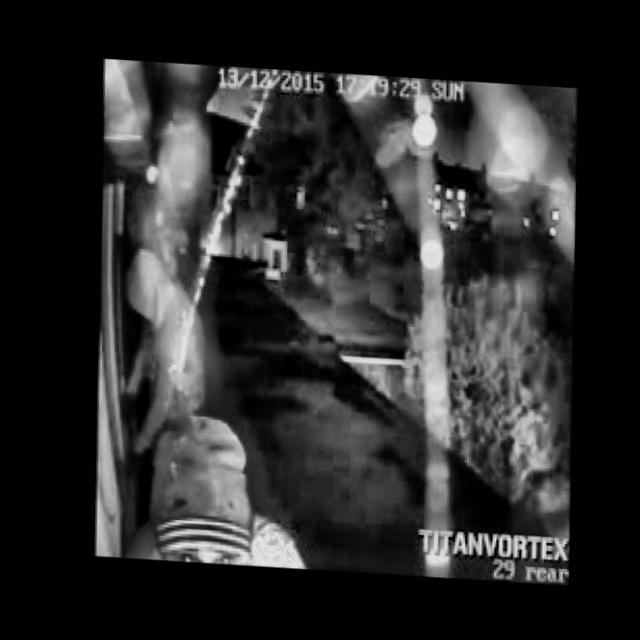burglary: (79, 239, 324, 569)
